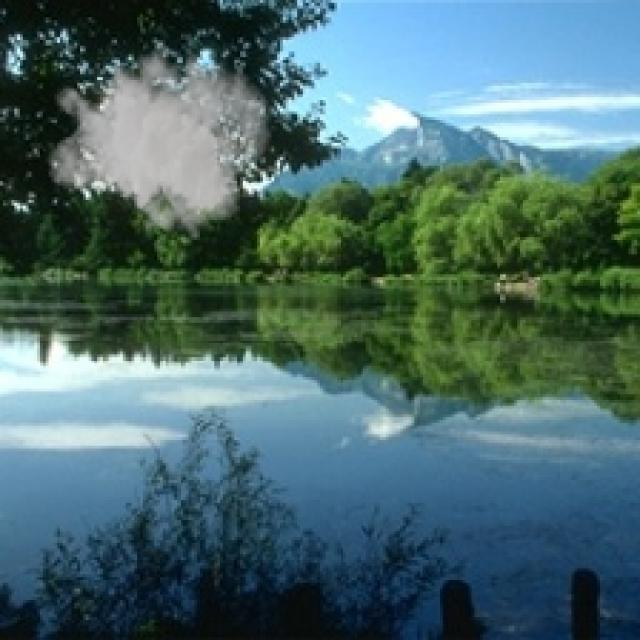Smoke: (45, 28, 272, 240)
